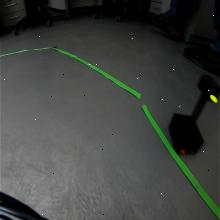green: (197, 73, 220, 104)
